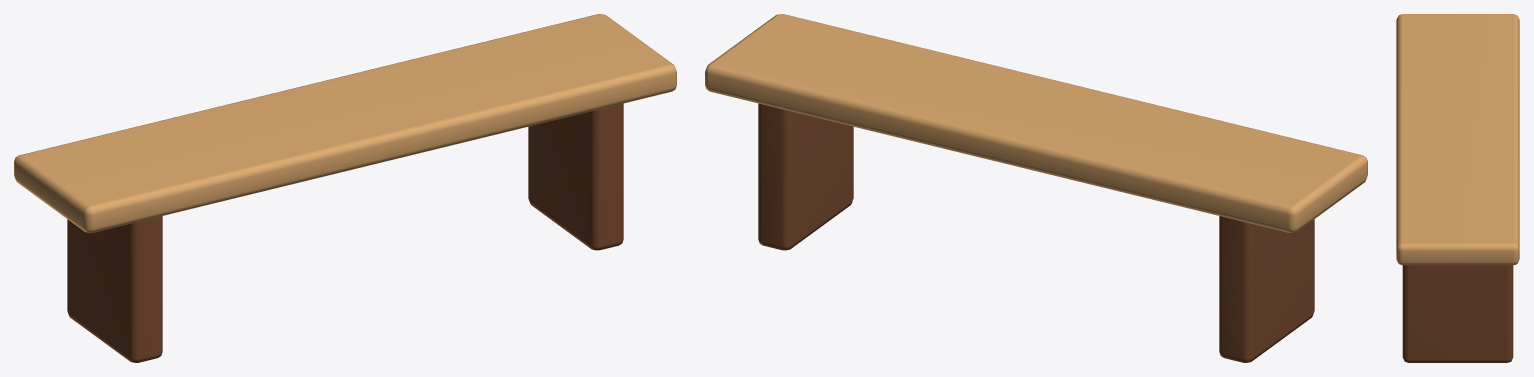
The model's file is faire_bench.glb.
3 renders of one model, left to right at view 1: azimuth 30°, elevation 25°; view 2: azimuth 150°, elevation 25°; view 3: azimuth 270°, elevation 25°, orthographic. The views are drawn at different scales.
Visible parts, largest first — view 1: Bench; view 2: Bench; view 3: Bench.
Boxes of the visible parts, x1,y1,x2,y2 form: Bench: [14, 14, 676, 362]; Bench: [705, 14, 1367, 362]; Bench: [1396, 14, 1519, 362].
Bounding box in the file's own units: 1.8 × 0.5 × 0.4.
